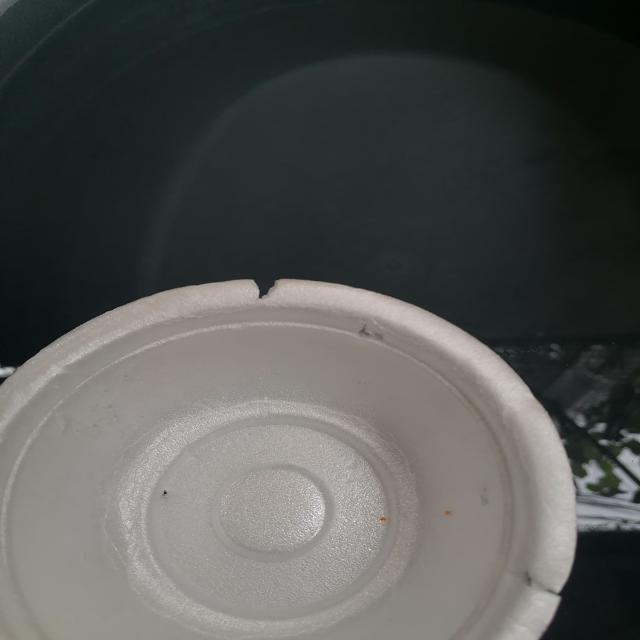Styrofoam Container: (0, 248, 606, 640)
